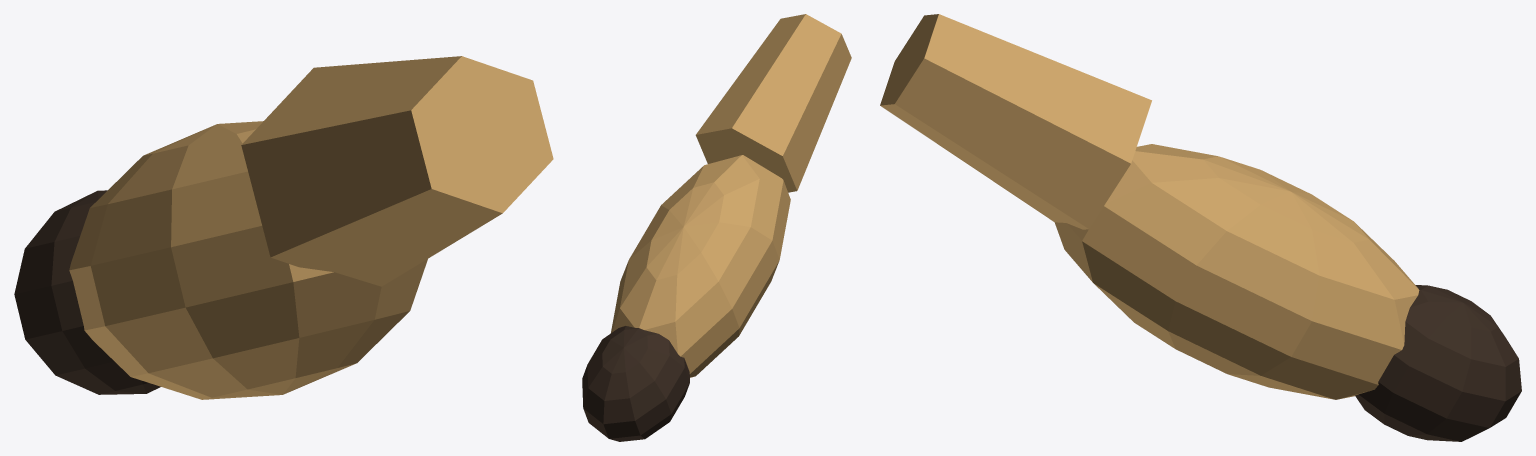
The model's file is dustpaw_tail.glb.
3 views of the same model, side by side, from view 1: azimuth 30°, elevation 25°; view 2: azimuth 150°, elevation 25°; view 3: azimuth 270°, elevation 25° (orthographic). The views are drawn at different scales.
Parts seen in each view (by area): view 1: dustpaw_tail; view 2: dustpaw_tail; view 3: dustpaw_tail.
Part boxes in pixels (box(x1,y1,x2,y2)): dustpaw_tail: box(14, 56, 553, 399); dustpaw_tail: box(582, 14, 851, 441); dustpaw_tail: box(880, 14, 1521, 441).
Bounding box in the file's own units: 0.2225 × 0.5565 × 0.768.
